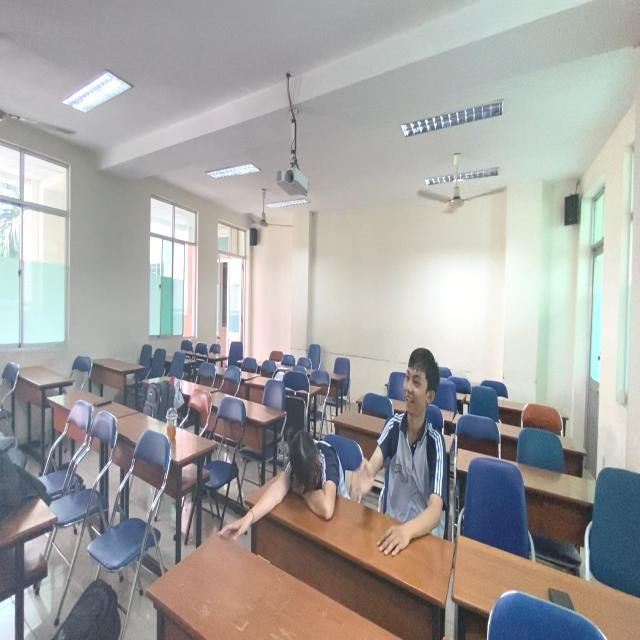sleep: (251, 423, 356, 524)
